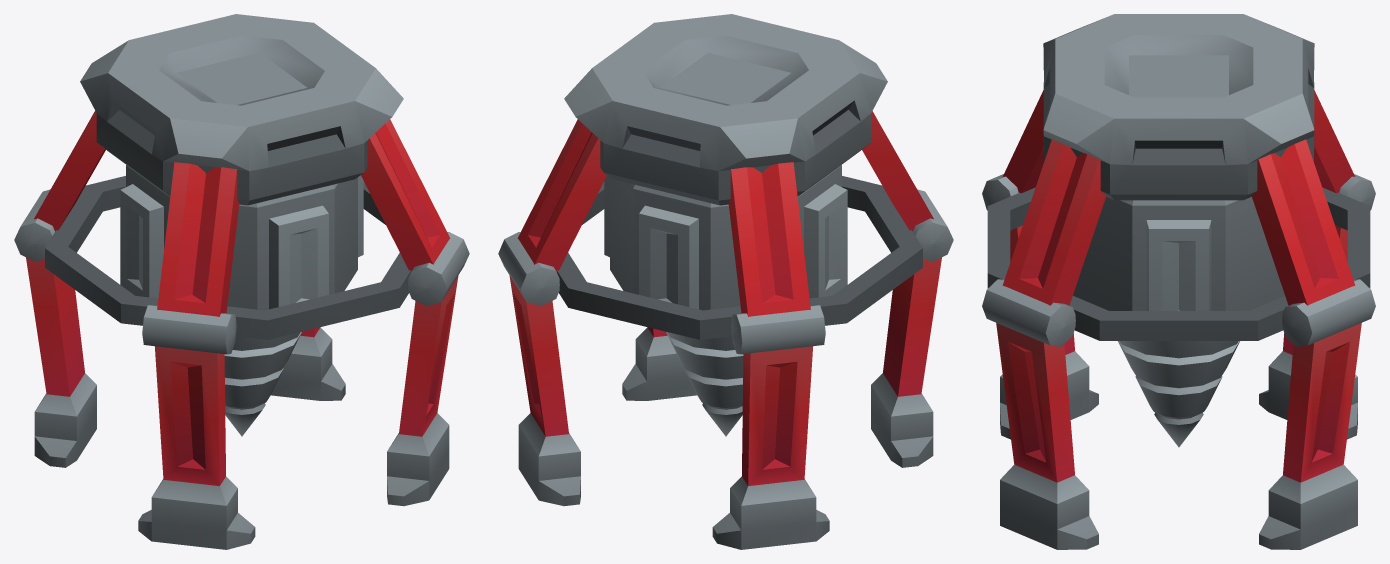
File: DrillStation.glb
The picture shows the model from 3 angles, left to right: view 1: azimuth 30°, elevation 25°; view 2: azimuth 150°, elevation 25°; view 3: azimuth 270°, elevation 25°; orthographic projection. The views are drawn at different scales.
Parts seen in each view (by area): view 1: drill_structure_Cylinder.2728, drill_module_Cylinder.2727; view 2: drill_structure_Cylinder.2728, drill_module_Cylinder.2727; view 3: drill_structure_Cylinder.2728, drill_module_Cylinder.2727.
Part boxes in pixels (<box>): drill_structure_Cylinder.2728: <box>14,14,469,549</box>; drill_module_Cylinder.2727: <box>120,165,363,436</box>; drill_structure_Cylinder.2728: <box>498,14,953,549</box>; drill_module_Cylinder.2727: <box>604,165,847,436</box>; drill_structure_Cylinder.2728: <box>982,14,1375,549</box>; drill_module_Cylinder.2727: <box>1073,197,1284,447</box>.
Bounding box in the file's own units: 1.75 × 2 × 1.75.
2 materials, 2 textured.
